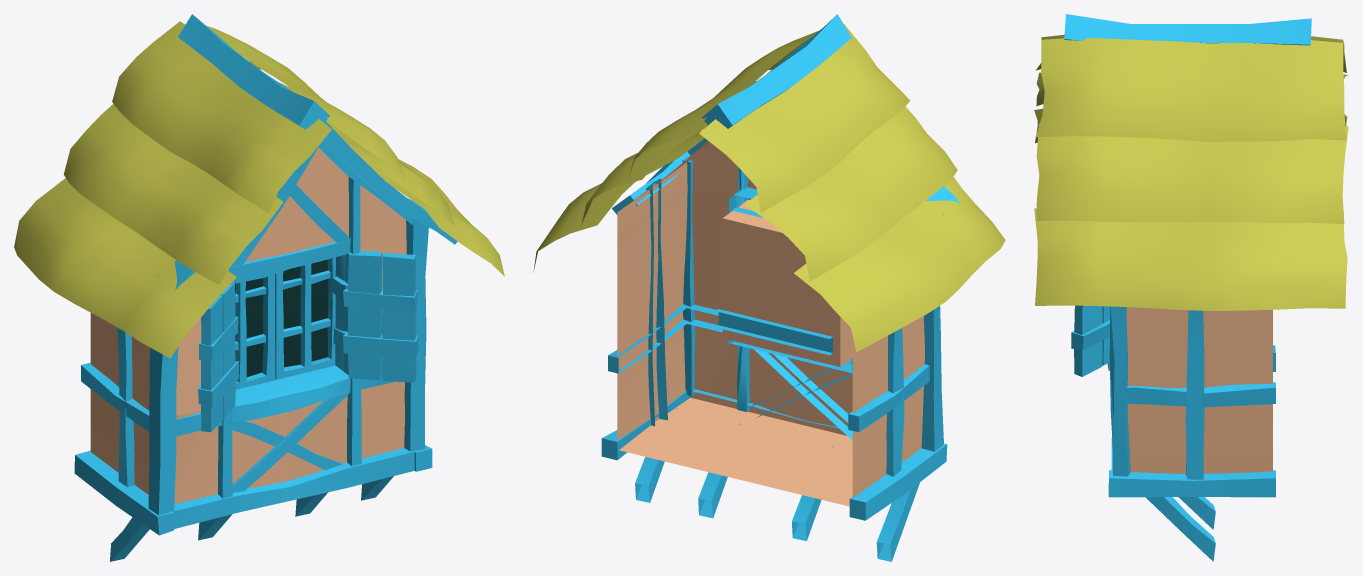
Rendered from House_extension_02_hay.fbx.
The picture shows the model from 3 angles, left to right: view 1: azimuth 30°, elevation 25°; view 2: azimuth 150°, elevation 25°; view 3: azimuth 270°, elevation 25°; orthographic projection. The views are drawn at different scales.
Parts seen in each view (by area): view 1: House_extension_02_hay; view 2: House_extension_02_hay; view 3: House_extension_02_hay.
Boxes of the visible parts, box(x1,y1,x2,y2) form: House_extension_02_hay: box(14, 14, 504, 561); House_extension_02_hay: box(533, 14, 1005, 561); House_extension_02_hay: box(1034, 14, 1348, 561).
Size of the model in its own units: 735 by 873 by 516.
